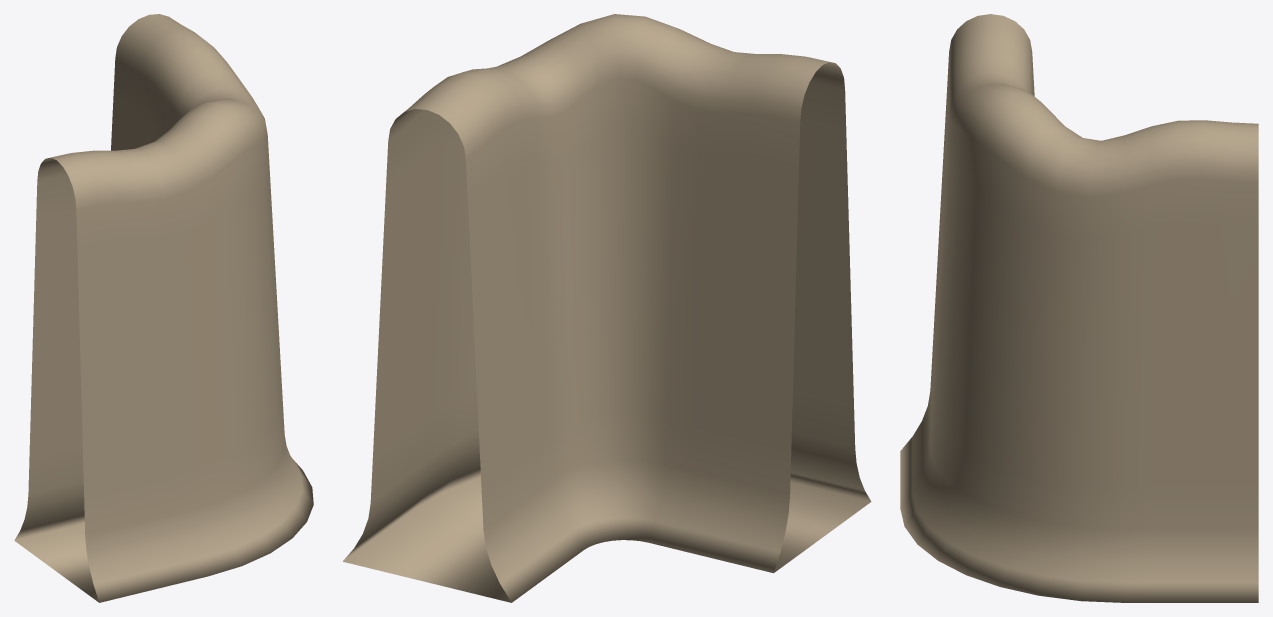
Rendered from KFB_Wall_corner.r3.glb.
3 views of the same model, side by side, from view 1: azimuth 30°, elevation 25°; view 2: azimuth 150°, elevation 25°; view 3: azimuth 270°, elevation 25° (orthographic). The views are drawn at different scales.
Visible parts, largest first — view 1: KFB_Wall_corner; view 2: KFB_Wall_corner; view 3: KFB_Wall_corner.
Boxes of the visible parts, <box> form: KFB_Wall_corner: <box>14,14,313,602</box>; KFB_Wall_corner: <box>343,14,871,602</box>; KFB_Wall_corner: <box>900,14,1258,602</box>.
Bounding box in the file's own units: 2.68 × 3.67 × 2.68.
